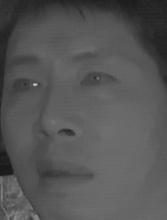eye: (76, 68, 119, 94), (7, 74, 43, 97)
mouth: (33, 155, 93, 193)
